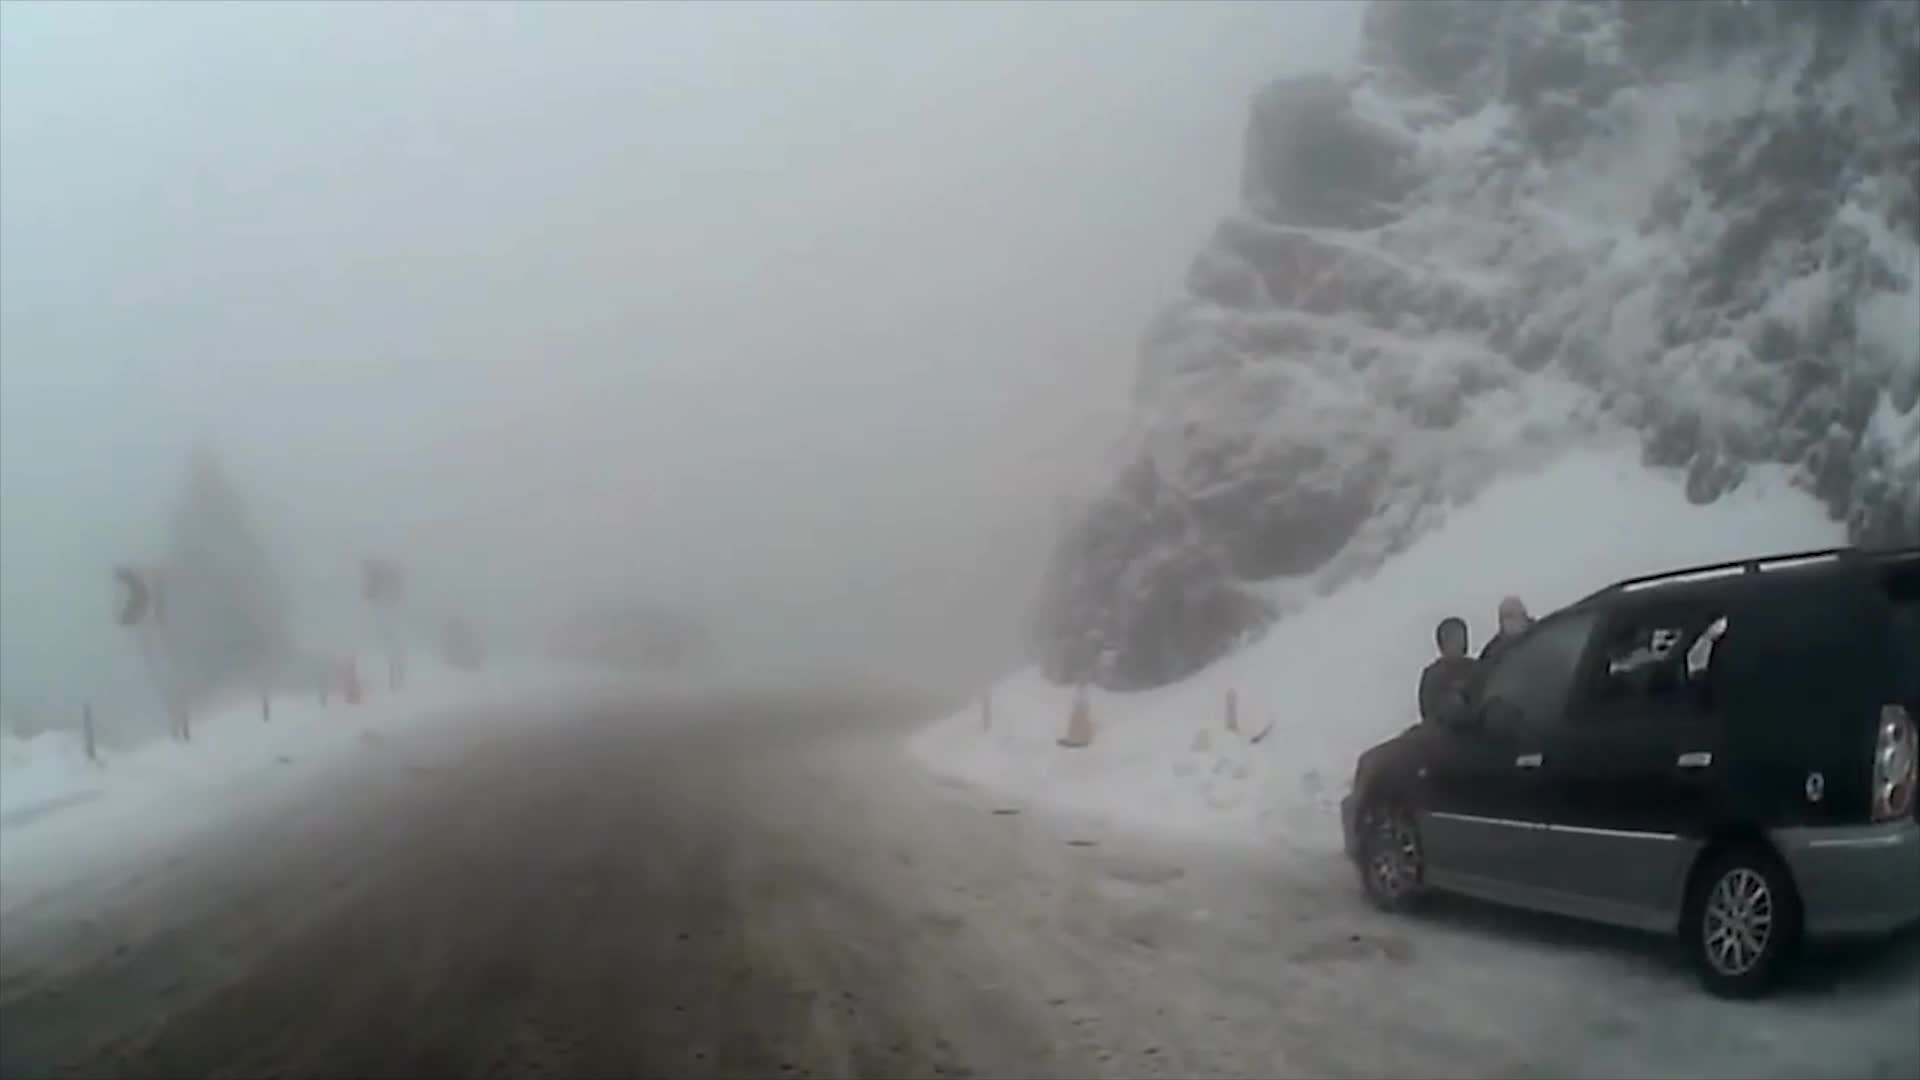pedestrian: (1415, 611, 1490, 872)
vehicle: (1337, 537, 1919, 1001)
